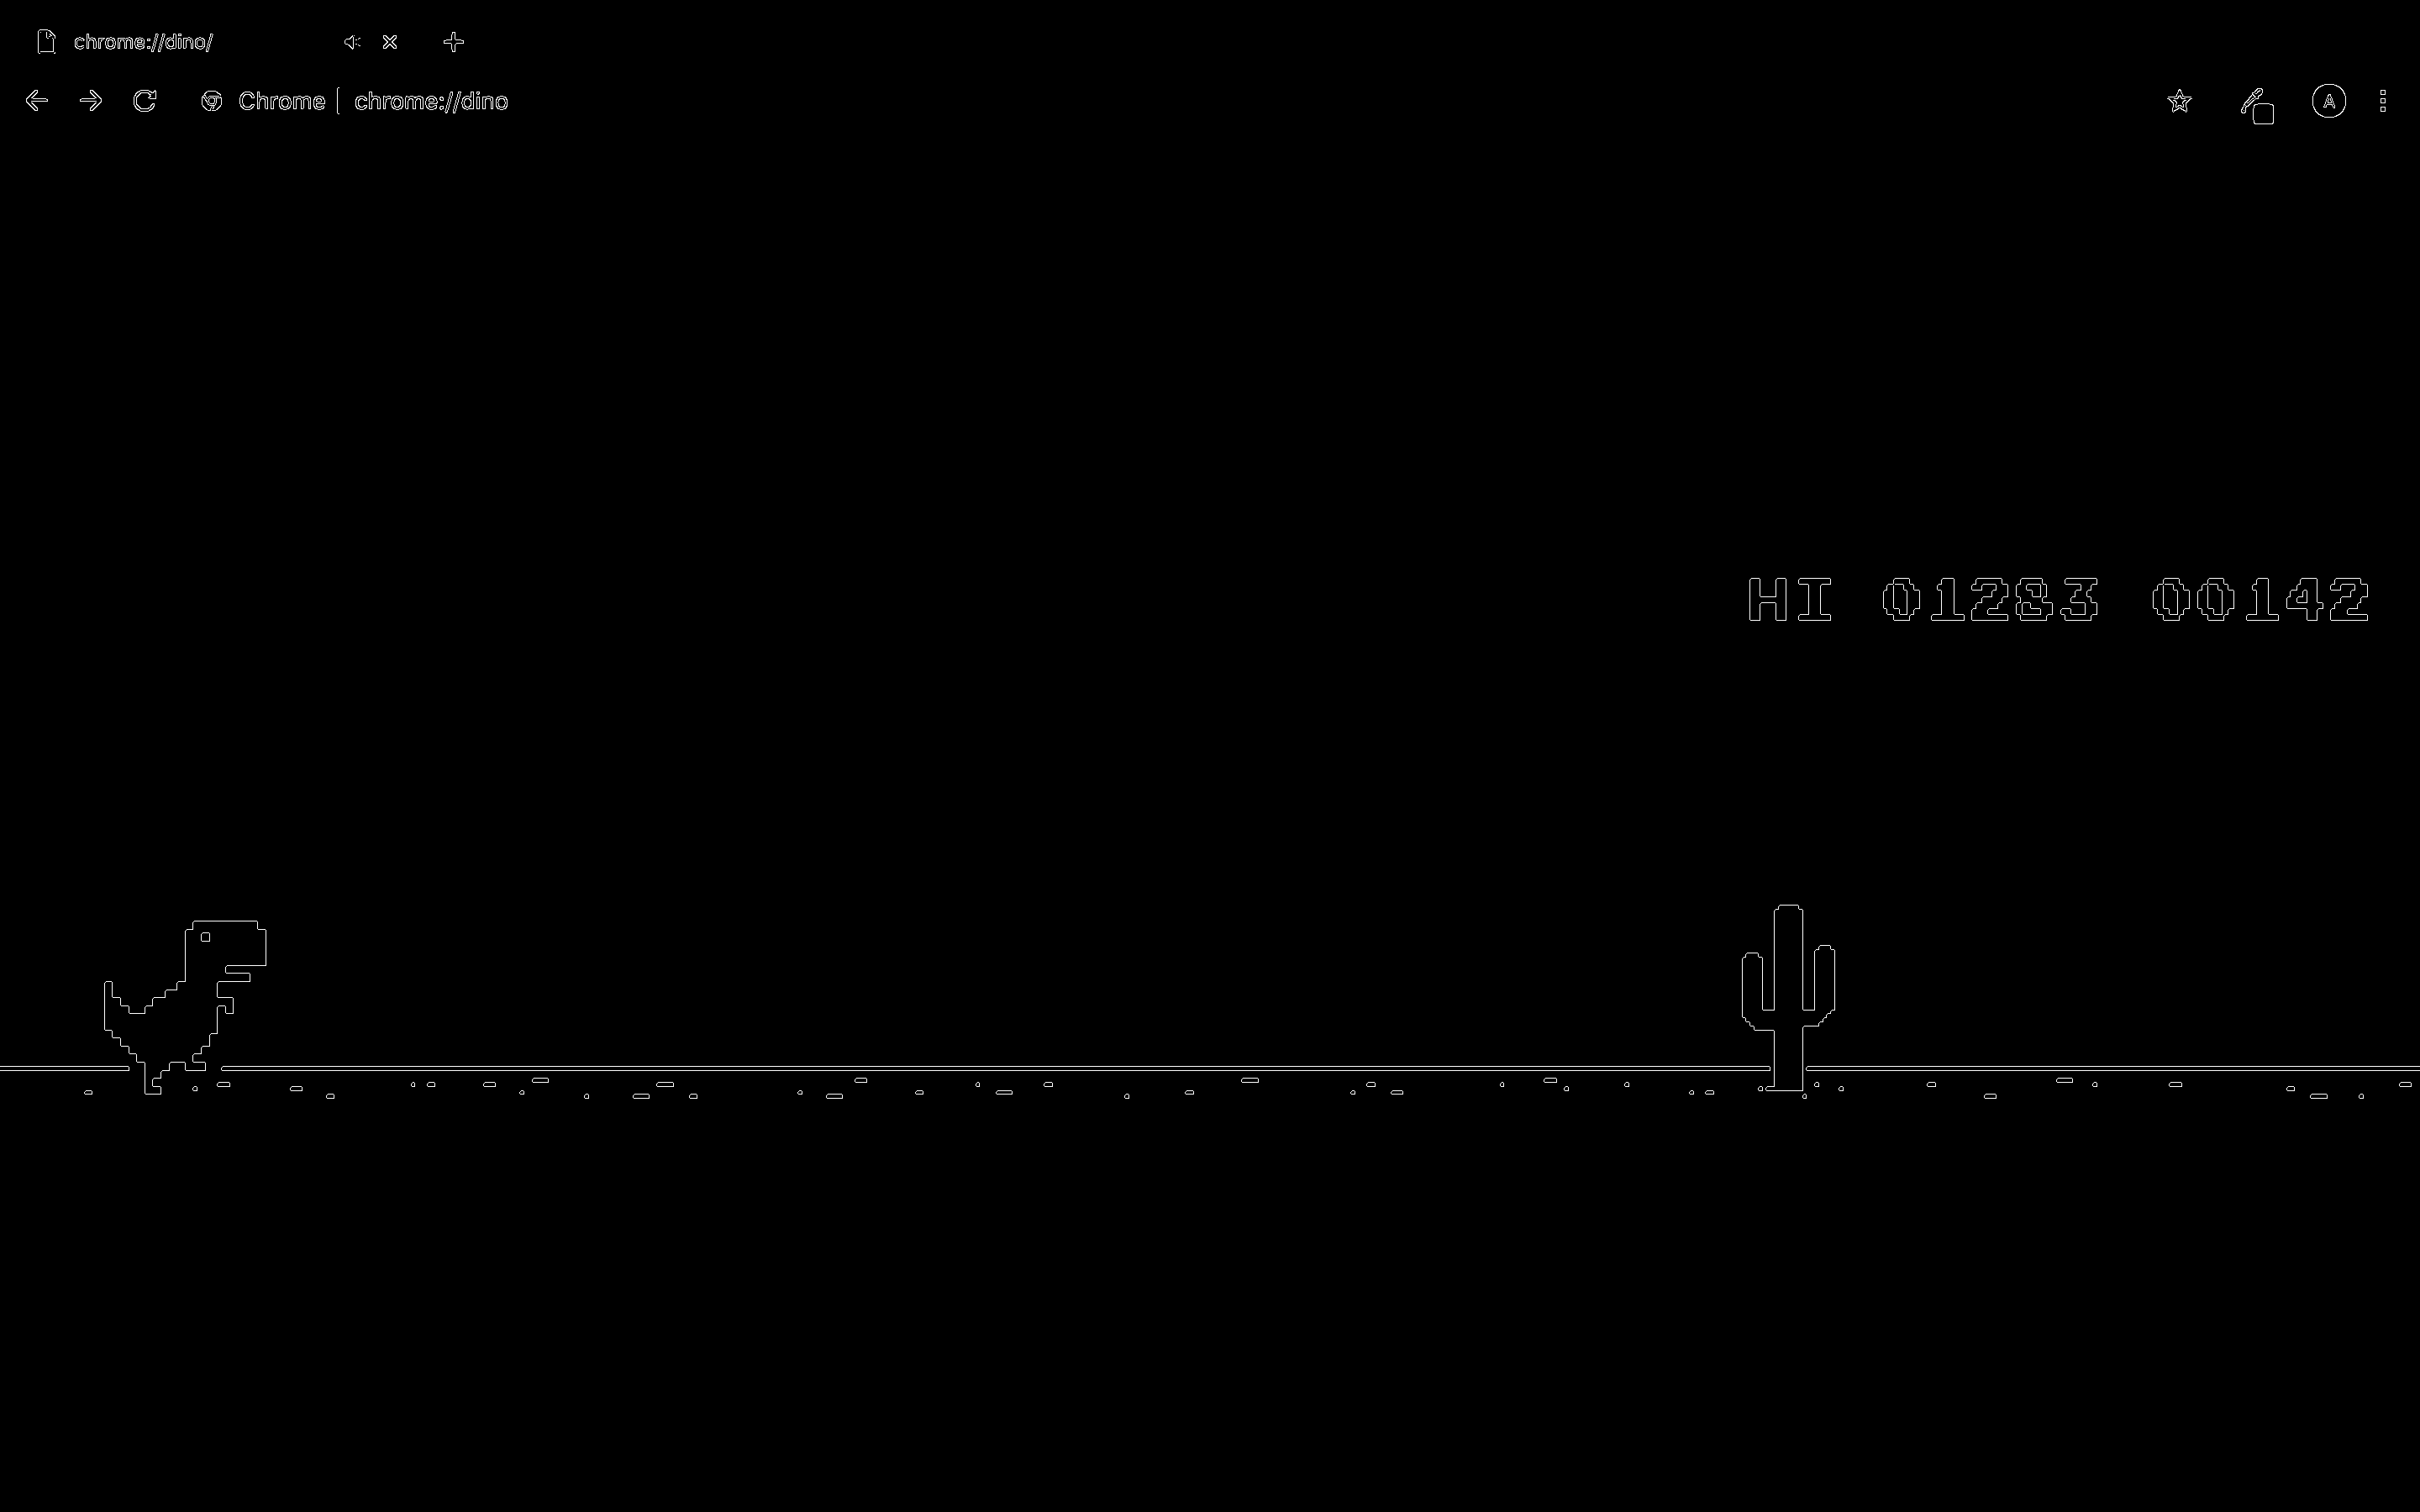Cactus: (1737, 904, 1842, 1092)
Dino: (96, 911, 274, 1097)
